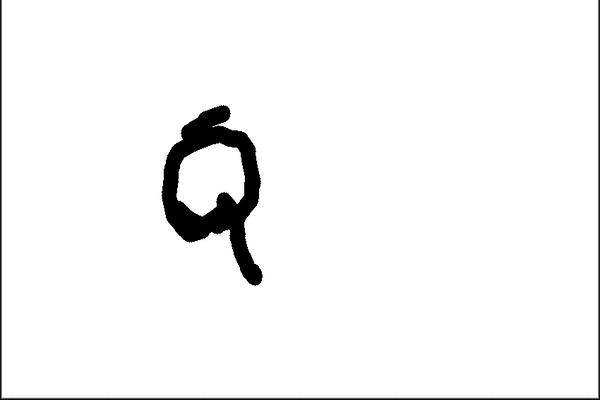Q: (147, 98, 279, 295)
